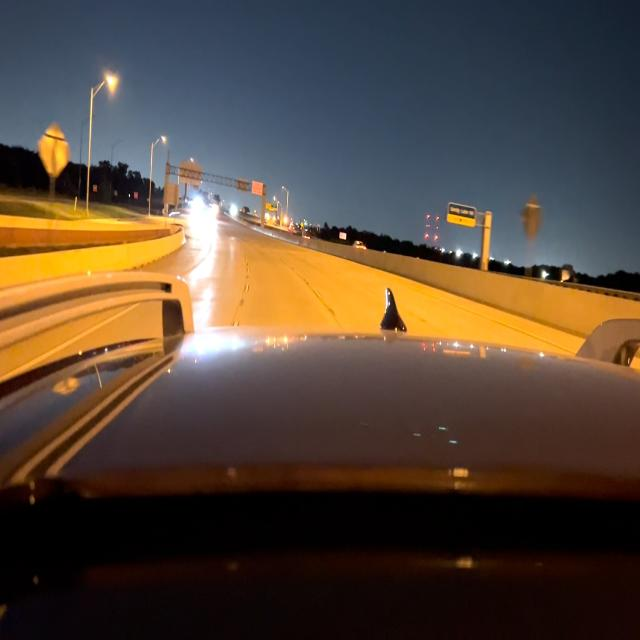back-of-sign: (38, 117, 72, 179)
